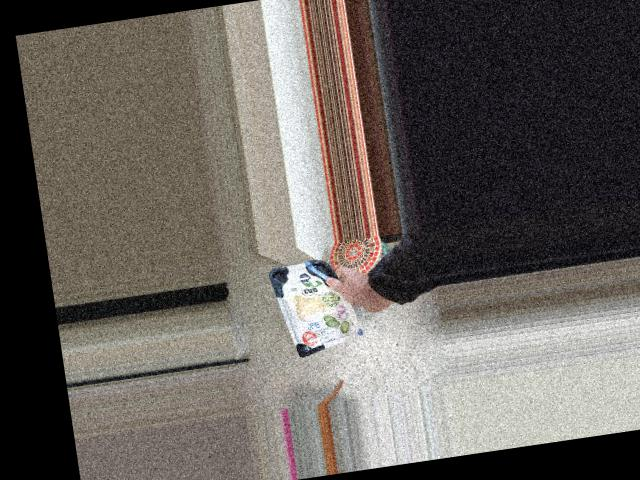cheese: (274, 249, 357, 360)
